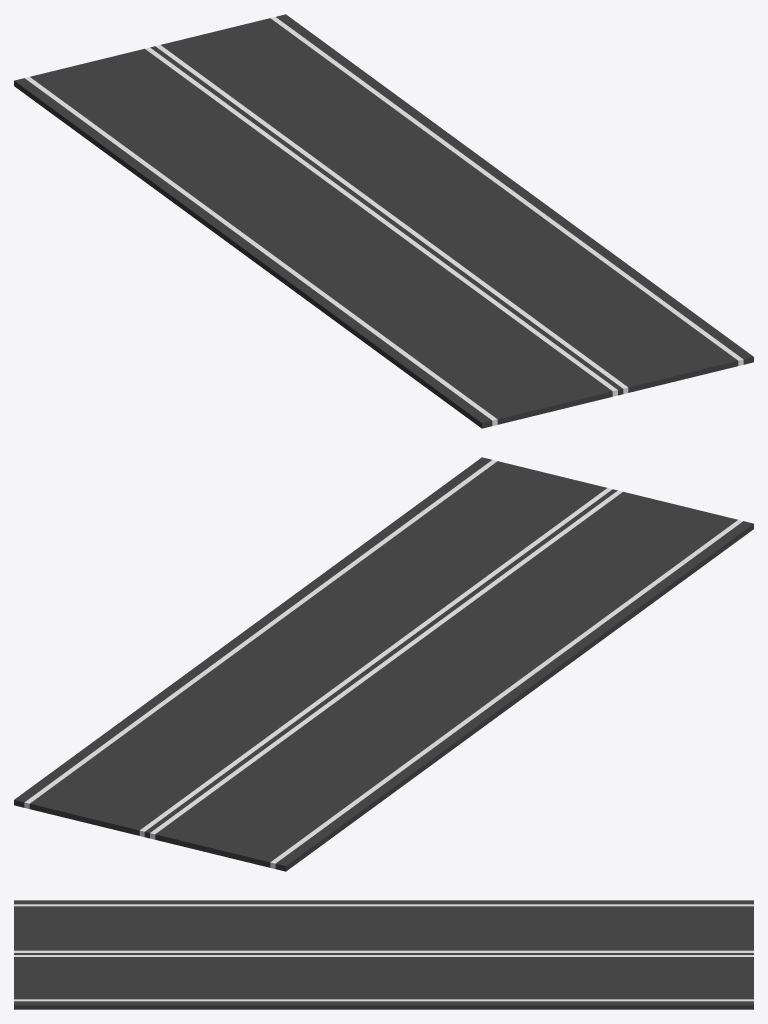
Rendered from first_map-16.obj.
3 views of the same model, one above another, from view 1: azimuth 30°, elevation 25°; view 2: azimuth 150°, elevation 25°; view 3: azimuth 270°, elevation 25° (orthographic). The views are drawn at different scales.
Size of the model in its own units: 5.2 by 0.1 by 15.5.
Materials: 1 (1 with a texture image).
